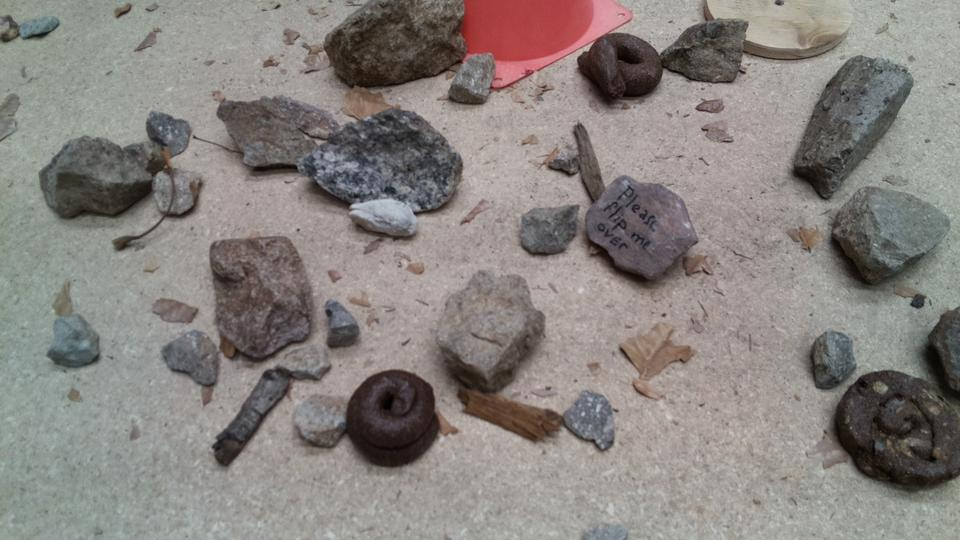poop: (830, 366, 960, 492), (342, 367, 442, 469), (575, 30, 665, 107)
